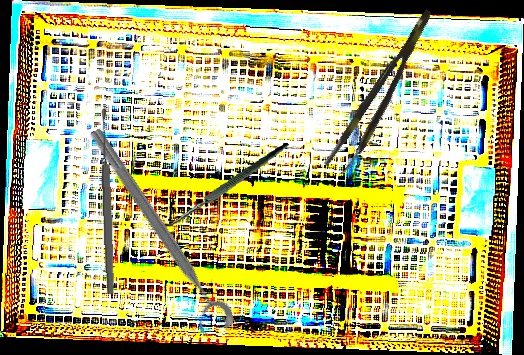Fixation Ring: (72, 123, 239, 343)
Hook Surgical: (150, 142, 299, 244)
Surgical Spoon: (98, 107, 117, 296)
Tissue Forceps: (322, 7, 447, 178)
